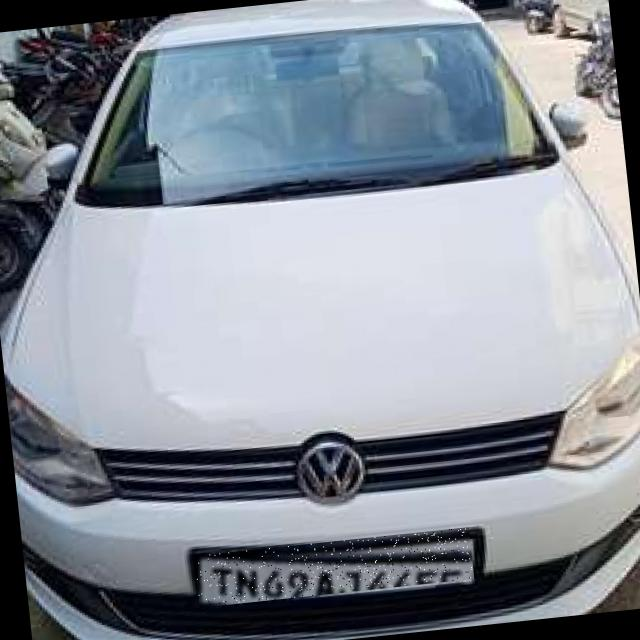Plate: (195, 528, 475, 609)
